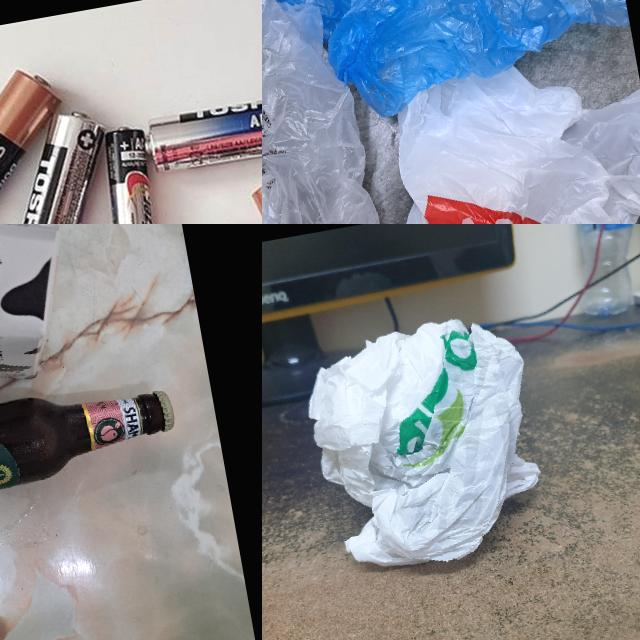bateria: (0, 103, 136, 224), (0, 62, 87, 224), (140, 83, 262, 177), (89, 120, 173, 224)
caixinha: (0, 224, 95, 400)
garrafa de vidro: (0, 367, 182, 518)
sacola plástica: (278, 298, 570, 594), (315, 28, 640, 224), (262, 0, 638, 136), (262, 0, 416, 224)
